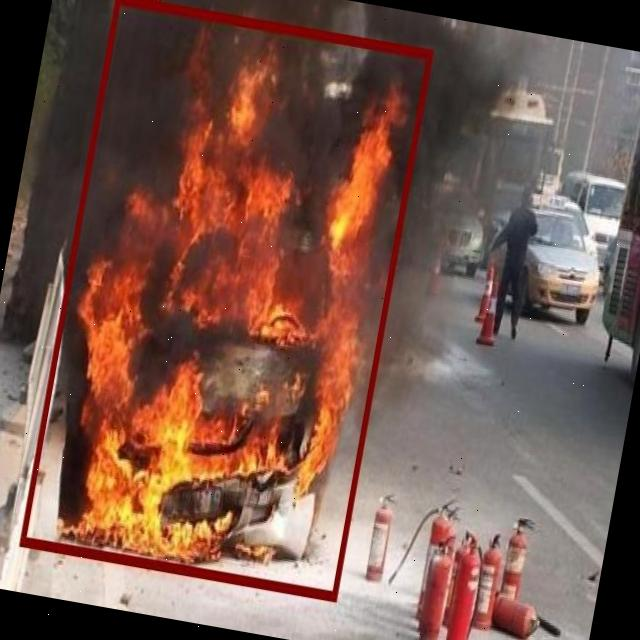fire: (19, 0, 432, 598)
